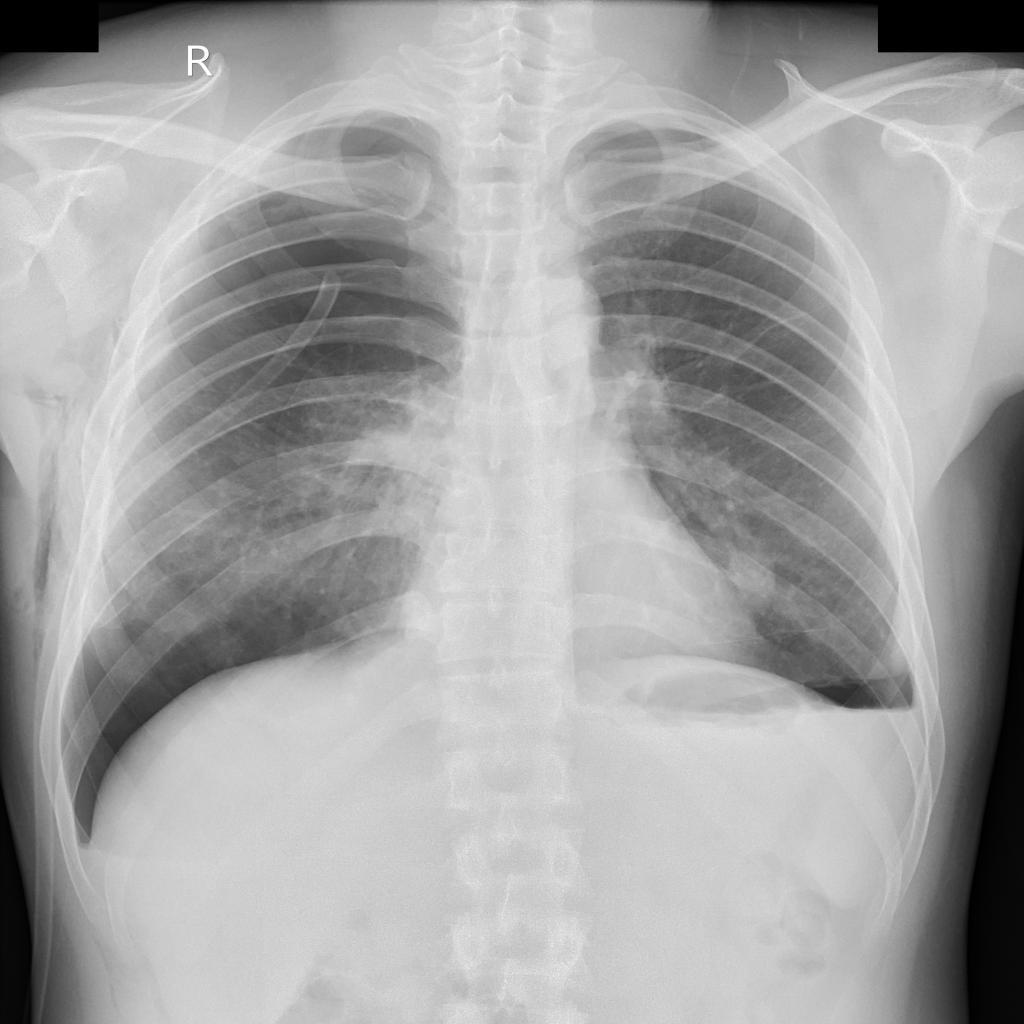Nodule: (730, 547, 775, 604)
